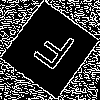F: (25, 24, 78, 81)
